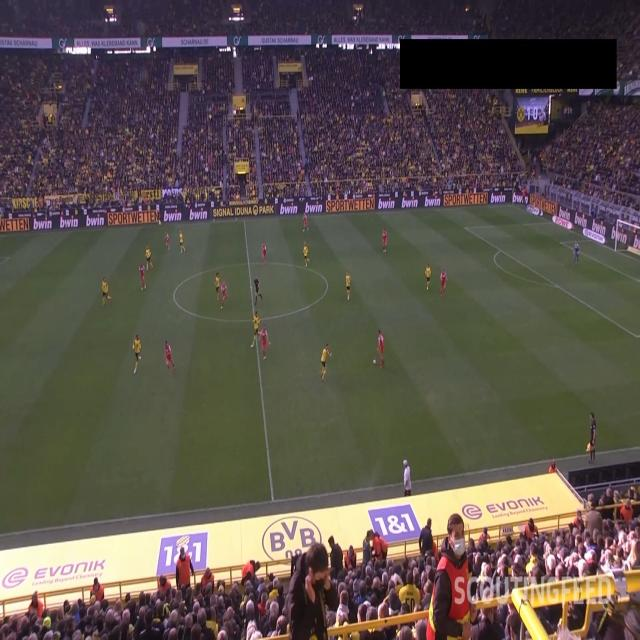ball: (373, 358, 376, 366)
